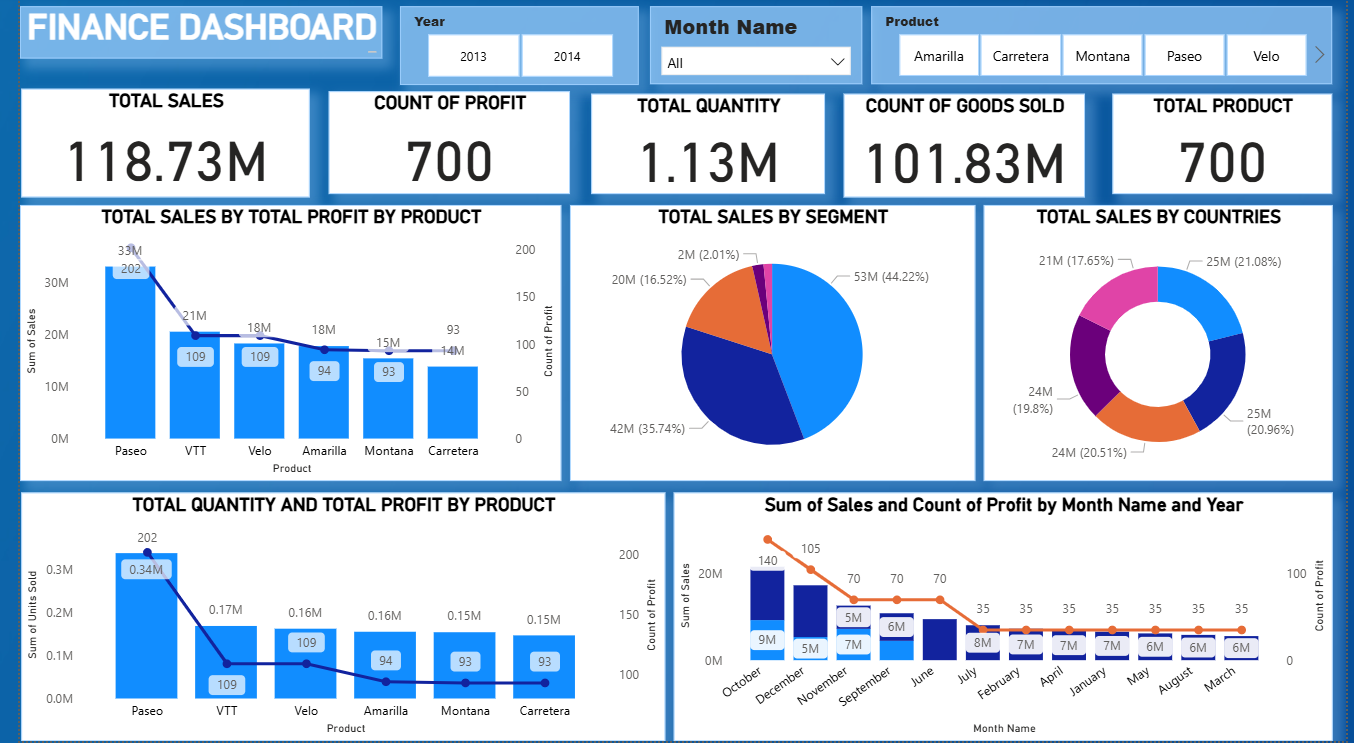

This screenshot's page, from the dashboard's own definition file:
{"tool":"powerbi","page":{"name":"FINANCE DASHBOARD","canvas":[1280,720],"ordinal":0},"visuals":[{"type":"textbox","title":"FINANCE DASHBOARD","box":[0,10.9,349.9,50.7],"z":0},{"type":"slicer","fields":{"Values":["Segment (finance dataset).Year"]},"box":[366.8,10.9,230.4,76],"z":1000},{"type":"slicer","fields":{"Values":["Segment (finance dataset).Month Name"]},"box":[607.9,11,204.5,75.5],"z":2000},{"type":"slicer","fields":{"Values":["Segment (finance dataset).Product"]},"box":[822,11,444.6,75.5],"z":3000},{"type":"card","title":"TOTAL SALES","fields":{"Values":["Sum(Segment (finance dataset).Sales)"]},"box":[1.2,90.5,278.7,105],"z":4000},{"type":"card","title":"COUNT OF PROFIT","fields":{"Values":["CountNonNull(Segment (finance dataset).Profit)"]},"box":[298,92.9,232.8,98.9],"z":5000},{"type":"card","title":"TOTAL QUANTITY","fields":{"Values":["Sum(Segment (finance dataset).Units Sold)"]},"box":[551.3,95.3,225.6,96.5],"z":6000},{"type":"card","title":"COUNT OF GOODS SOLD","fields":{"Values":["Sum(Segment (finance dataset).COGS)"]},"box":[795,95.3,232.8,96.5],"z":7000},{"type":"card","title":"TOTAL PRODUCT","fields":{"Values":["CountNonNull(Segment (finance dataset).Product)"]},"box":[1054.4,95.3,212.3,96.5],"z":8000},{"type":"lineClusteredColumnComboChart","title":"TOTAL SALES BY TOTAL PROFIT BY PRODUCT","fields":{"Category":["Segment (finance dataset).Product"],"Y":["Sum(Segment (finance dataset).Sales)"],"Y2":["CountNonNull(Segment (finance dataset).Profit)"]},"box":[0,202.7,522.4,266.6],"z":9000},{"type":"pieChart","title":"TOTAL SALES BY SEGMENT","fields":{"Category":["Segment (finance dataset).Segment"],"Y":["Sum(Segment (finance dataset).Sales)"]},"box":[530.8,202.7,390.9,266.6],"z":10000},{"type":"donutChart","title":"TOTAL SALES BY COUNTRIES","fields":{"Category":["Segment (finance dataset).Country"],"Y":["Sum(Segment (finance dataset).Sales)"]},"box":[930.2,202.7,336.6,266.6],"z":11000},{"type":"lineClusteredColumnComboChart","title":"TOTAL QUANTITY AND TOTAL PROFIT BY PRODUCT","fields":{"Category":["Segment (finance dataset).Product"],"Y":["Sum(Segment (finance dataset).Units Sold)"],"Y2":["CountNonNull(Segment (finance dataset).Profit)"]},"box":[1.2,480.2,621.3,240.1],"z":12000},{"type":"lineStackedColumnComboChart","fields":{"Category":["Segment (finance dataset).Month Name"],"Y":["Sum(Segment (finance dataset).Sales)"],"Y2":["CountNonNull(Segment (finance dataset).Profit)"],"Series":["Segment (finance dataset).Year"]},"box":[631,480.2,635.8,240.1],"z":13000}]}

Visuals, with their boxes in screenshot pixels (x1, y1, x2, y2), scaled from the page's 1280x720 canvas onto the 1354x743 screenshot:
"FINANCE DASHBOARD" textbox: box=[0, 11, 370, 64]
slicer - Segment (finance dataset).Year: box=[388, 11, 632, 90]
slicer - Segment (finance dataset).Month Name: box=[643, 11, 859, 89]
slicer - Segment (finance dataset).Product: box=[870, 11, 1340, 89]
"TOTAL SALES" card: box=[1, 93, 296, 202]
"COUNT OF PROFIT" card: box=[315, 96, 561, 198]
"TOTAL QUANTITY" card: box=[583, 98, 822, 198]
"COUNT OF GOODS SOLD" card: box=[841, 98, 1087, 198]
"TOTAL PRODUCT" card: box=[1115, 98, 1340, 198]
"TOTAL SALES BY TOTAL PROFIT BY PRODUCT" lineClusteredColumnComboChart: box=[0, 209, 553, 484]
"TOTAL SALES BY SEGMENT" pieChart: box=[561, 209, 975, 484]
"TOTAL SALES BY COUNTRIES" donutChart: box=[984, 209, 1340, 484]
"TOTAL QUANTITY AND TOTAL PROFIT BY PRODUCT" lineClusteredColumnComboChart: box=[1, 496, 658, 742]
lineStackedColumnComboChart - Segment (finance dataset).Month Name x Sum(Segment (finance dataset).Sales): box=[667, 496, 1340, 742]
